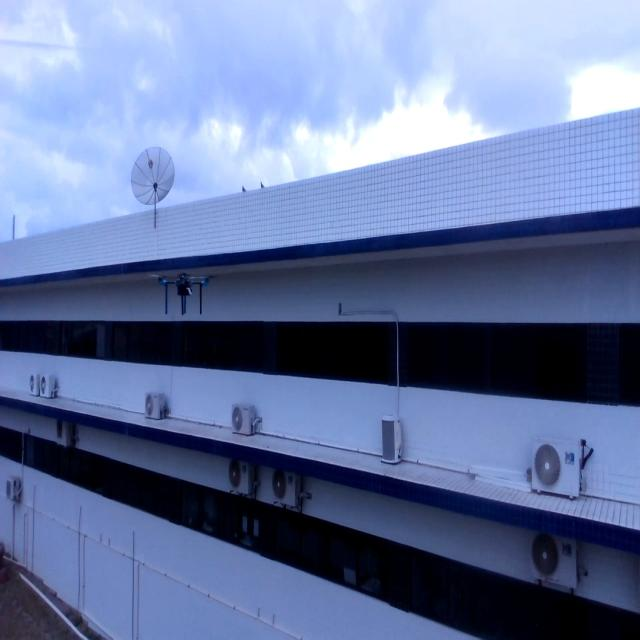-uav-: (147, 266, 223, 318)
